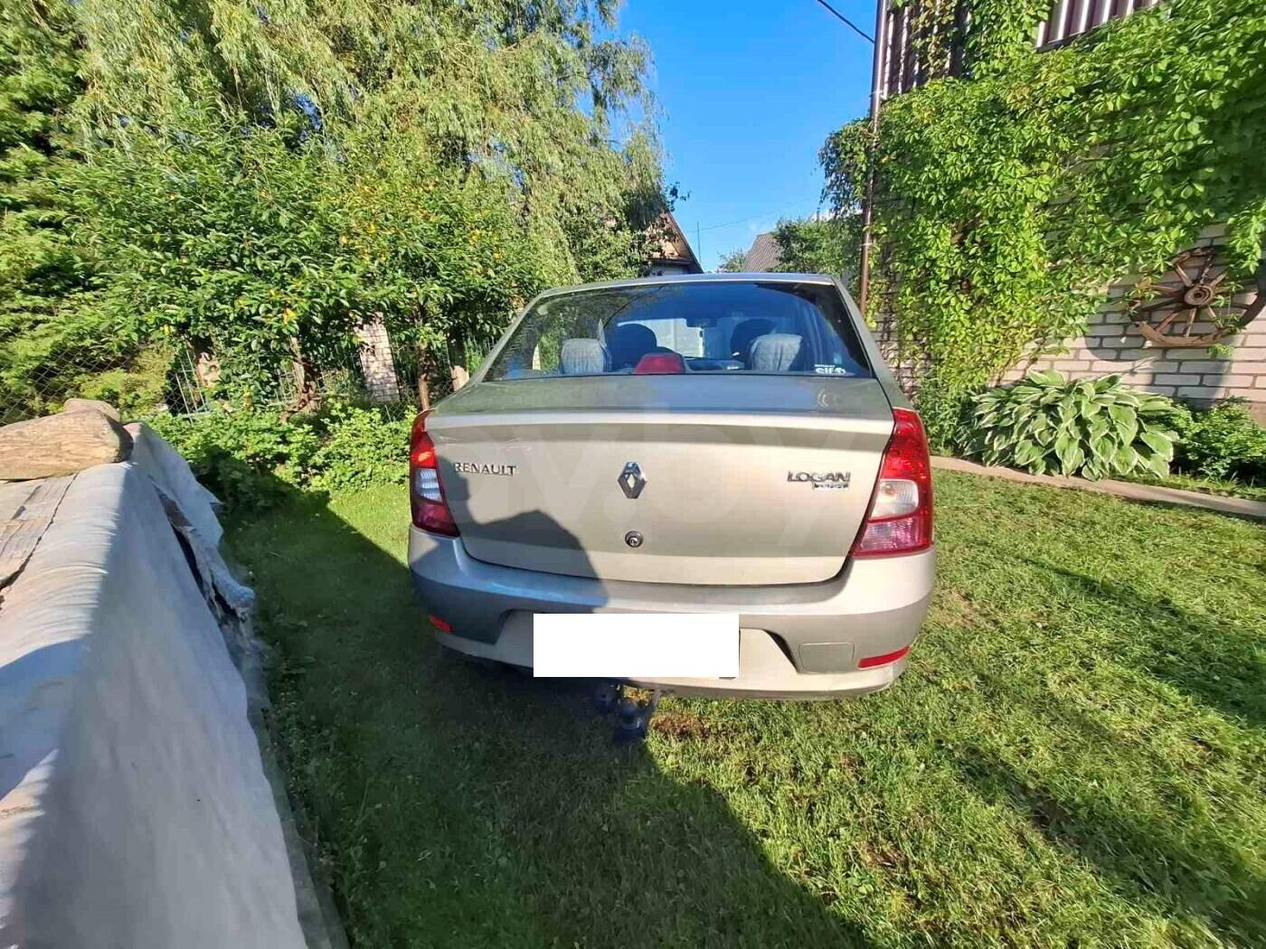Logan_2008-2015: (408, 272, 947, 719)
